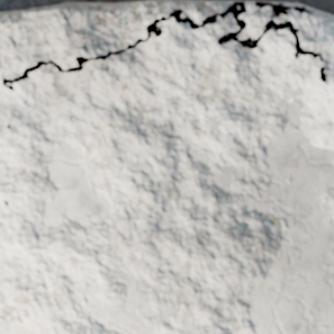brick: (0, 0, 333, 333), (240, 1, 286, 39), (286, 3, 301, 6)
crack: (2, 0, 331, 91)
